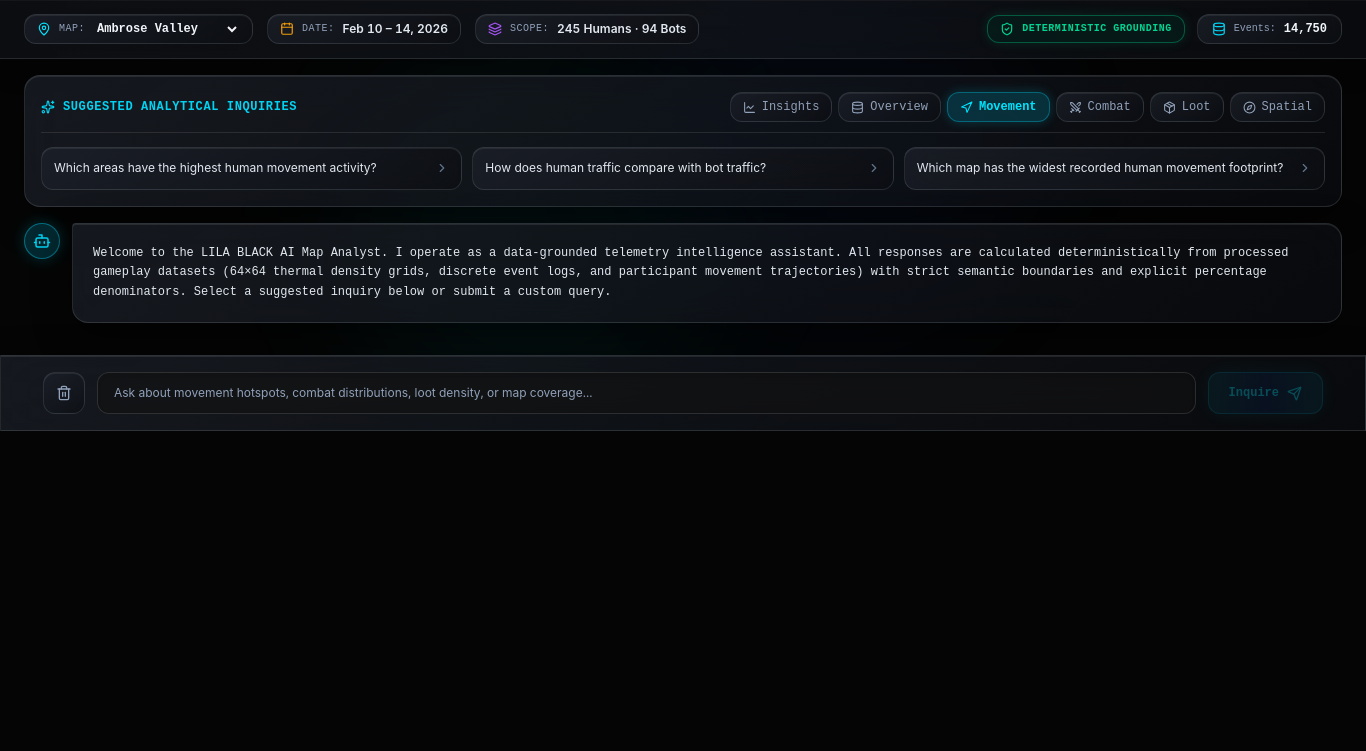
Test: AnalystPage Integration Tests › processes a clicked suggested question and renders structured insights
Click the button "Which areas have the highest human movement activity?" at (252, 168), box 41,147 -> 462,190
(page scrolled)
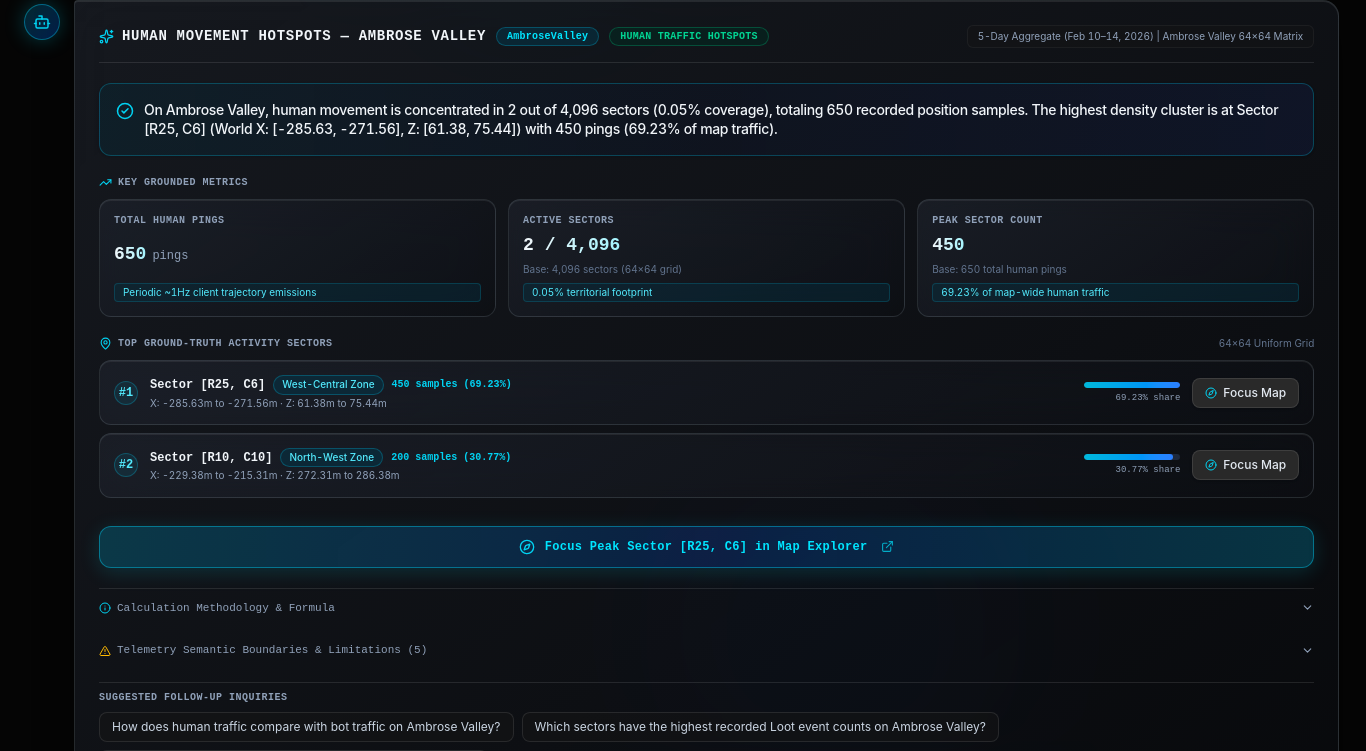
Check: the text "Human Movement Hotspots — Ambrose Valley" is shown, box 122,26 -> 486,46
Check: the text "Total Human Pings" is shown, box 114,215 -> 224,226
Check: the text "Sector [R25, C6]" is shown, box 150,377 -> 265,393
